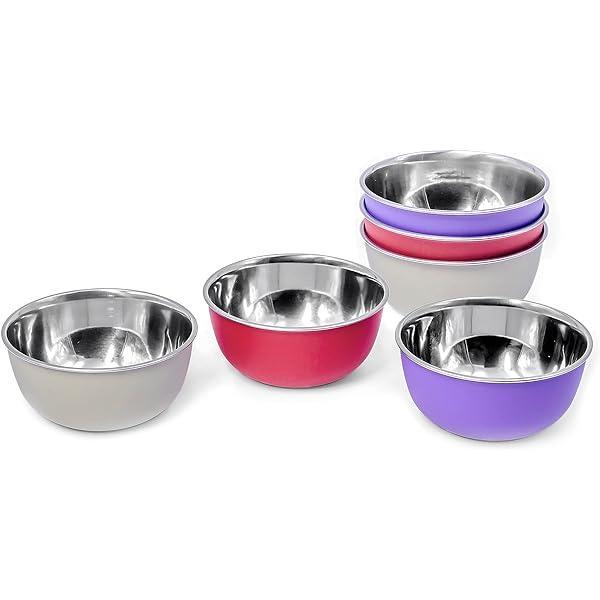bowl: (395, 294, 600, 447)
